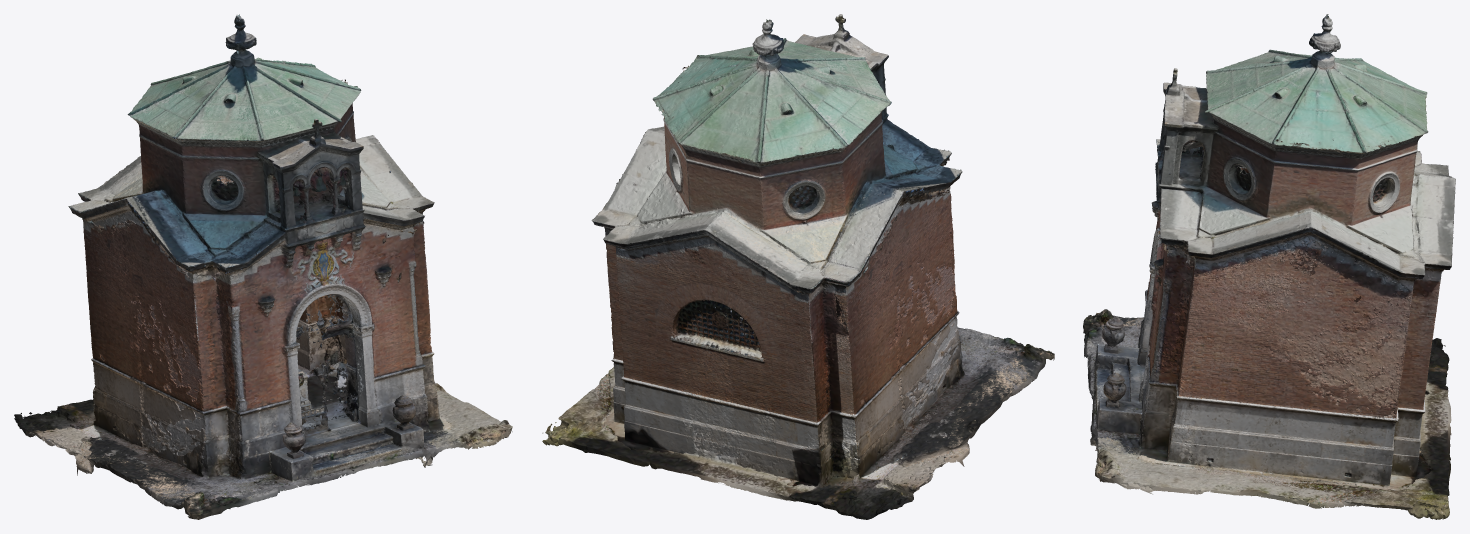
Rendered from ruspoli-web.glb.
3 renders of one model, left to right at view 1: azimuth 30°, elevation 25°; view 2: azimuth 150°, elevation 25°; view 3: azimuth 270°, elevation 25°, orthographic. The views are drawn at different scales.
Visible parts, largest first — view 1: world; view 2: world; view 3: world.
Boxes of the visible parts, box(x1,y1,x2,y2) form: world: box(14, 14, 512, 519); world: box(542, 14, 1054, 519); world: box(1083, 14, 1455, 519).
Bounding box in the file's own units: 8.27 × 9.43 × 7.5.
